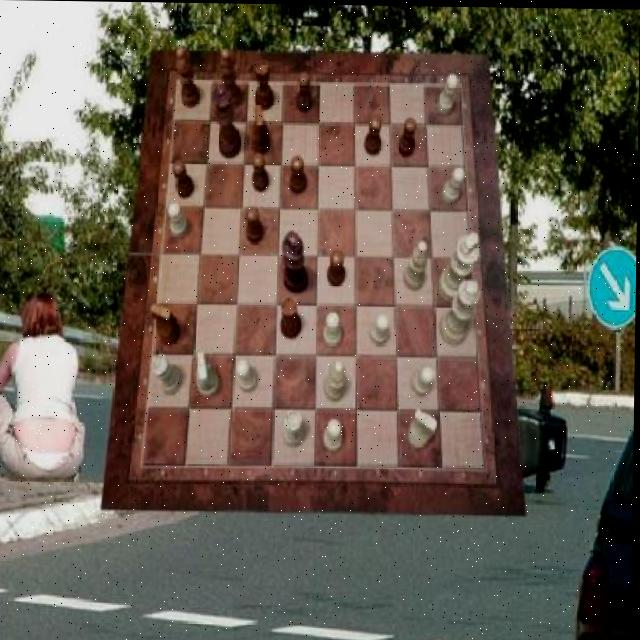bishop: (176, 47, 200, 109), (220, 49, 243, 109)
black-bishop: (283, 230, 310, 292)
black-king: (152, 302, 182, 344), (252, 104, 272, 156)
black-knight: (173, 159, 196, 198), (398, 117, 416, 157), (246, 206, 264, 244), (253, 152, 270, 192), (366, 115, 383, 155), (297, 71, 314, 111), (292, 154, 309, 193), (327, 250, 345, 285)
black-pawn: (212, 84, 243, 159)
black-queen: (256, 60, 276, 111), (282, 297, 304, 339)
black-rook: (404, 240, 428, 290), (326, 358, 347, 400)
white-bishop: (440, 230, 480, 303)
white-king: (409, 408, 439, 448), (198, 352, 222, 397)
white-knight: (437, 73, 459, 115), (442, 165, 466, 203), (168, 202, 189, 238), (412, 365, 436, 396), (237, 358, 258, 393), (324, 418, 344, 452), (372, 312, 392, 345), (324, 312, 342, 346)
white-pawn: (441, 277, 481, 343)
white-queen: (152, 354, 183, 395), (284, 408, 308, 446)
